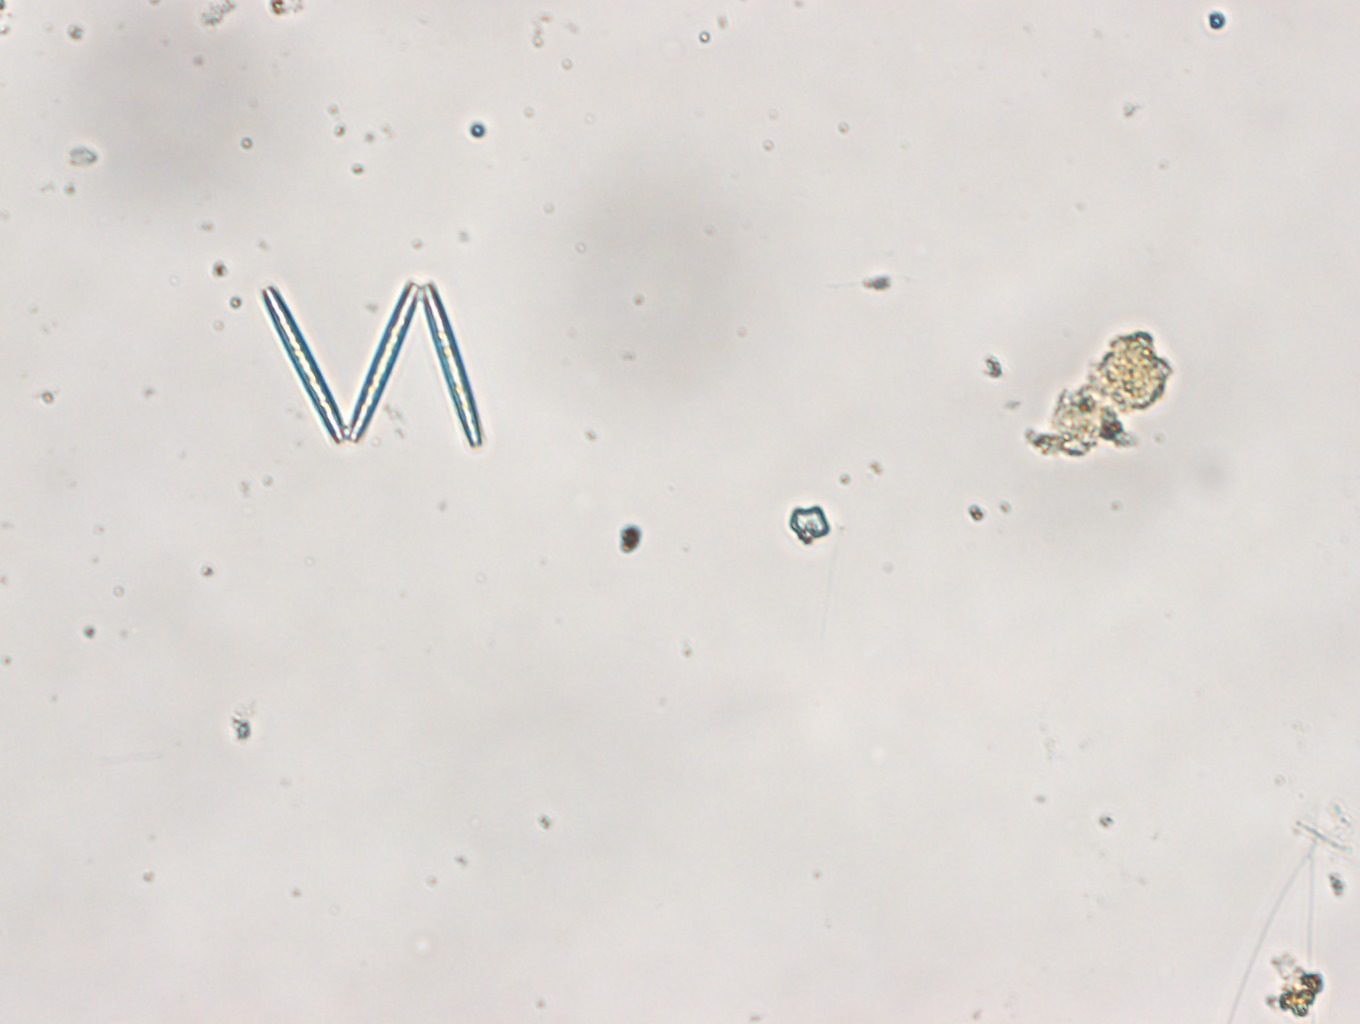thalassionema nitzschioides: (261, 282, 486, 447)
